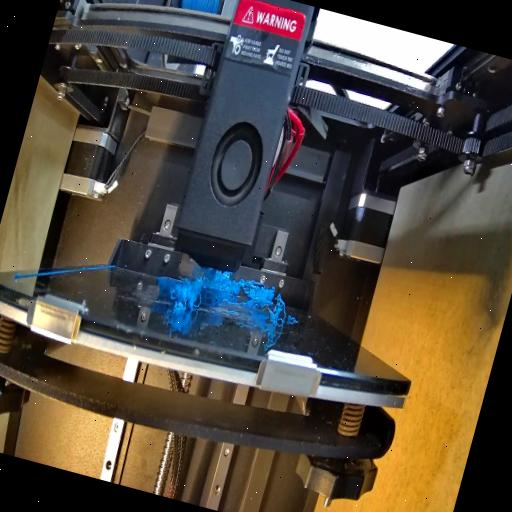spaghetti: (194, 265, 276, 311), (162, 272, 204, 314), (264, 293, 290, 331)
